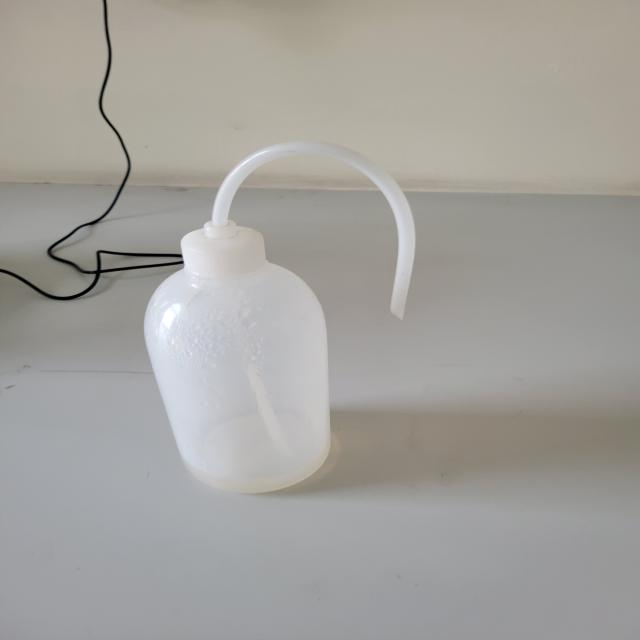Wash_Bottle: (93, 105, 443, 521)
